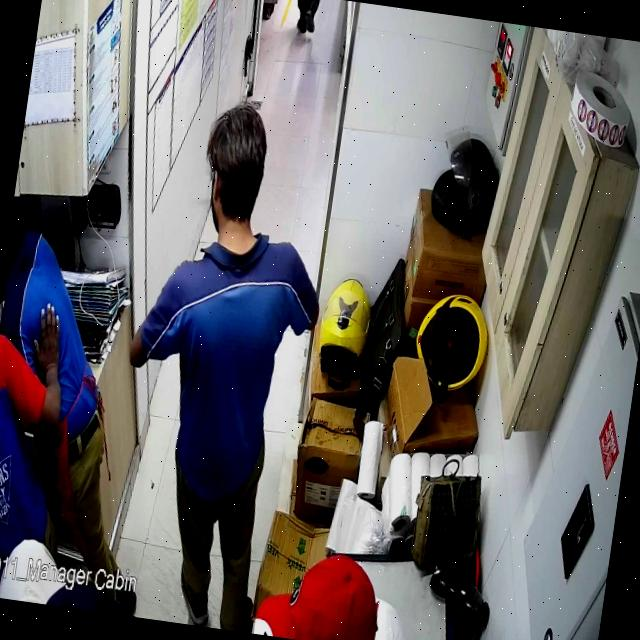helmet: (431, 130, 500, 237), (318, 274, 372, 376)
no_helmet: (207, 103, 267, 249)
